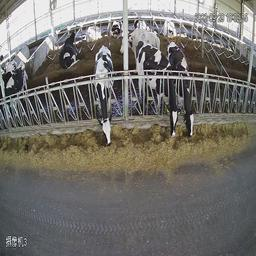cow: (135, 41, 181, 136), (93, 43, 117, 146), (181, 53, 194, 135), (60, 33, 80, 68), (159, 17, 178, 39), (85, 23, 103, 42), (132, 14, 151, 31), (110, 20, 124, 36)
